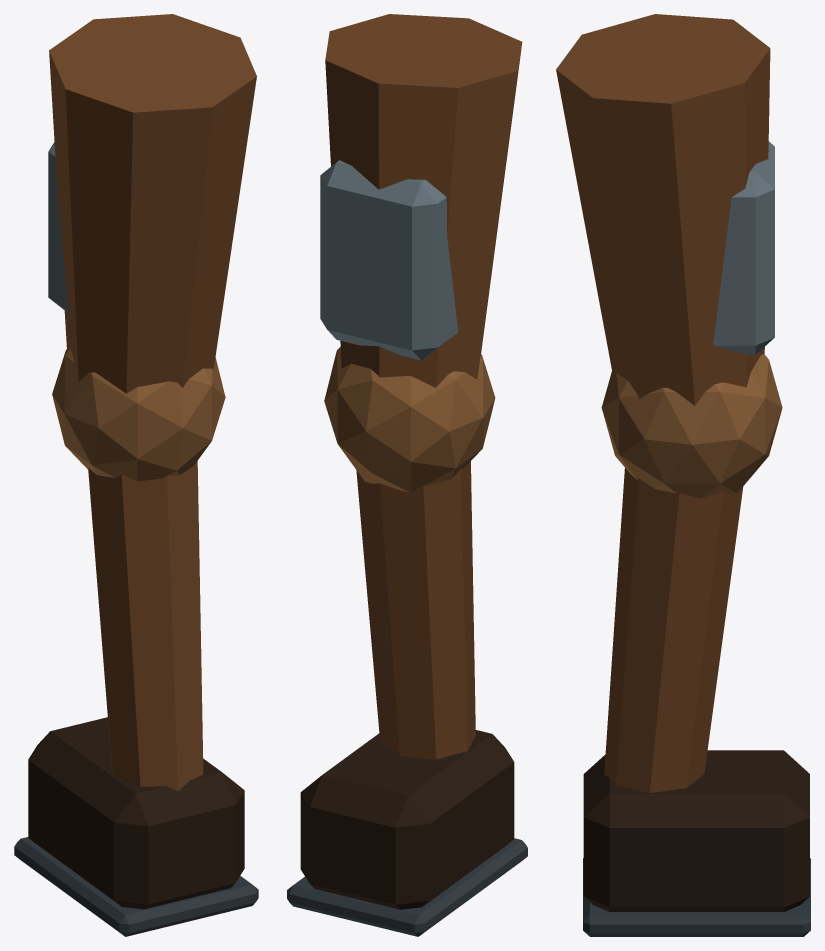
Rendered from LegFrontLeft.glb.
3 views of the same model, side by side, from view 1: azimuth 30°, elevation 25°; view 2: azimuth 150°, elevation 25°; view 3: azimuth 270°, elevation 25° (orthographic). The views are drawn at different scales.
Visible parts, largest first — view 1: Sculpture; view 2: Sculpture; view 3: Sculpture.
Part boxes in pixels (bbox=[...]): Sculpture: bbox=[14, 14, 258, 936]; Sculpture: bbox=[287, 14, 527, 936]; Sculpture: bbox=[556, 14, 810, 936].
Size of the model in its own units: 0.2234 by 0.9789 by 0.2649.
